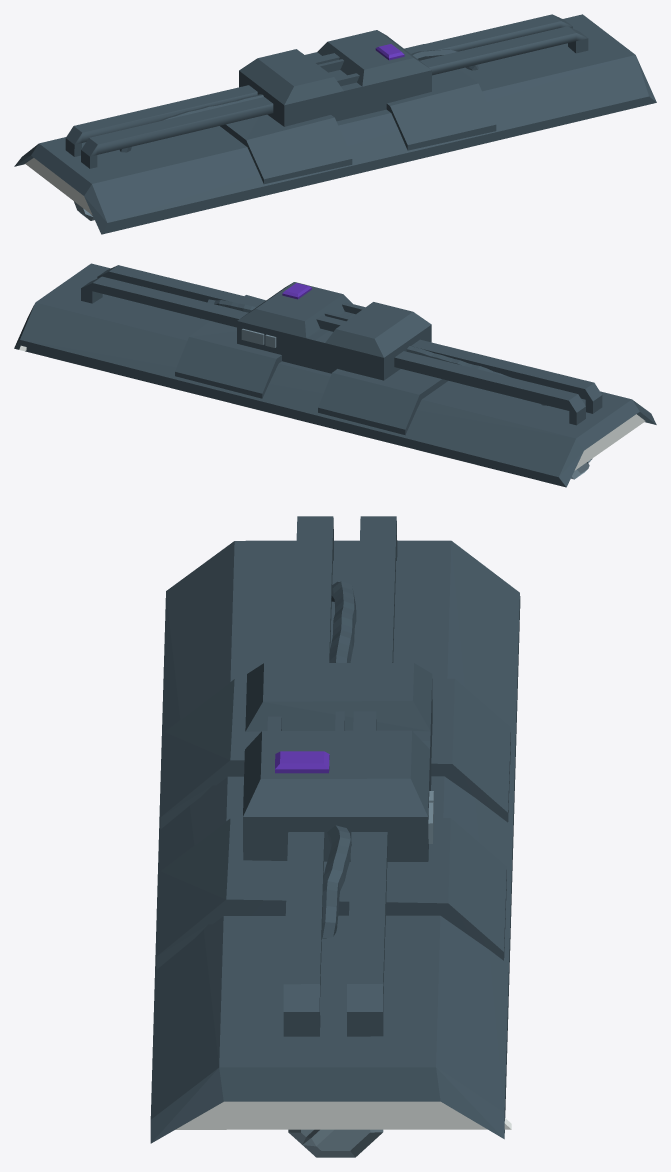
File: Fluorescent Light.glb
3 views of the same model, one above another, from view 1: azimuth 30°, elevation 25°; view 2: azimuth 150°, elevation 25°; view 3: azimuth 270°, elevation 25° (orthographic). The views are drawn at different scales.
Visible parts, largest first — view 1: Fluorescent Light; view 2: Fluorescent Light; view 3: Fluorescent Light.
Part boxes in pixels (bbox=[...]): Fluorescent Light: bbox=[14, 14, 656, 234]; Fluorescent Light: bbox=[14, 263, 656, 487]; Fluorescent Light: bbox=[150, 516, 520, 1157].
Size of the model in its own units: 1.65 by 0.3004 by 0.4756.
